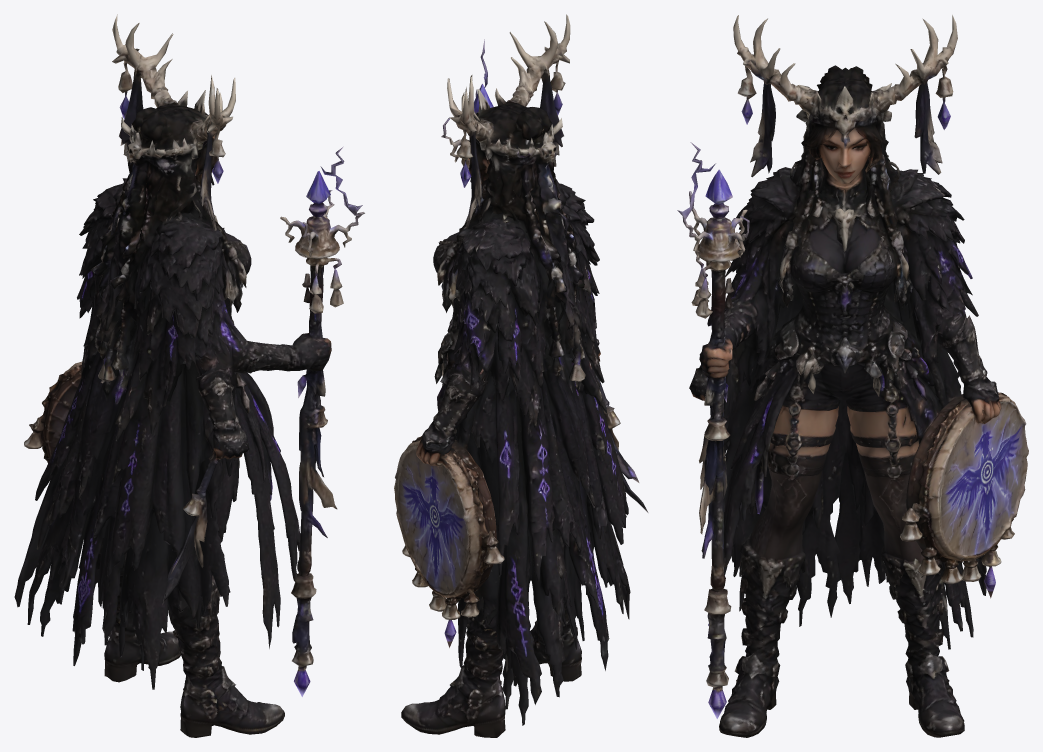
File: drumcaller-GraveWarden-tripo.glb
3 renders of one model, left to right at view 1: azimuth 30°, elevation 25°; view 2: azimuth 150°, elevation 25°; view 3: azimuth 270°, elevation 25°, orthographic. The views are drawn at different scales.
Visible parts, largest first — view 1: tripo_node_7d0ced24-6eef-434d-895c-f3c59ad50c42; view 2: tripo_node_7d0ced24-6eef-434d-895c-f3c59ad50c42; view 3: tripo_node_7d0ced24-6eef-434d-895c-f3c59ad50c42.
Part boxes in pixels (left/top/right/bottom): tripo_node_7d0ced24-6eef-434d-895c-f3c59ad50c42: left=14, top=14, right=364, bottom=737; tripo_node_7d0ced24-6eef-434d-895c-f3c59ad50c42: left=394, top=14, right=648, bottom=737; tripo_node_7d0ced24-6eef-434d-895c-f3c59ad50c42: left=677, top=15, right=1028, bottom=737.
Bounding box in the file's own units: 0.3514 × 1 × 0.457.
Materials: 1 (1 with a texture image).
